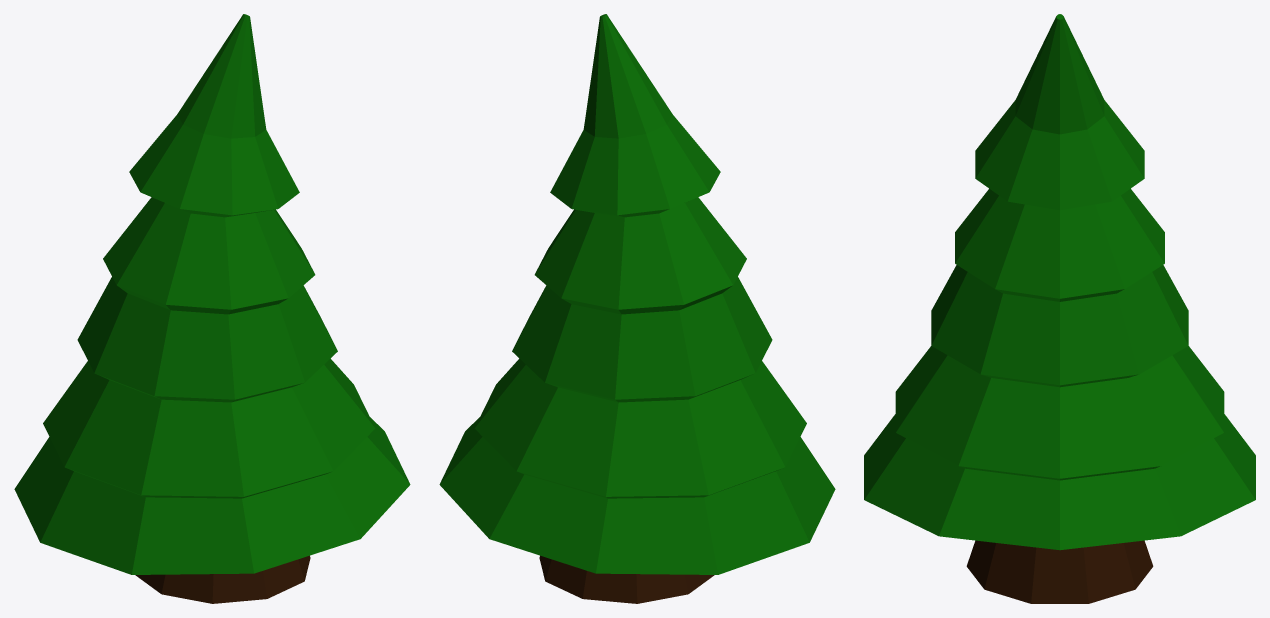
Rendered from SM_Tree02.fbx.
3 renders of one model, left to right at view 1: azimuth 30°, elevation 25°; view 2: azimuth 150°, elevation 25°; view 3: azimuth 270°, elevation 25°, orthographic. The views are drawn at different scales.
Parts seen in each view (by area): view 1: Cylinder.003; view 2: Cylinder.003; view 3: Cylinder.003.
Part boxes in pixels (x1,y1,x2,y2): Cylinder.003: [14, 14, 410, 603]; Cylinder.003: [439, 14, 835, 603]; Cylinder.003: [864, 14, 1255, 603].
Size of the model in its own units: 283 by 428 by 270.
